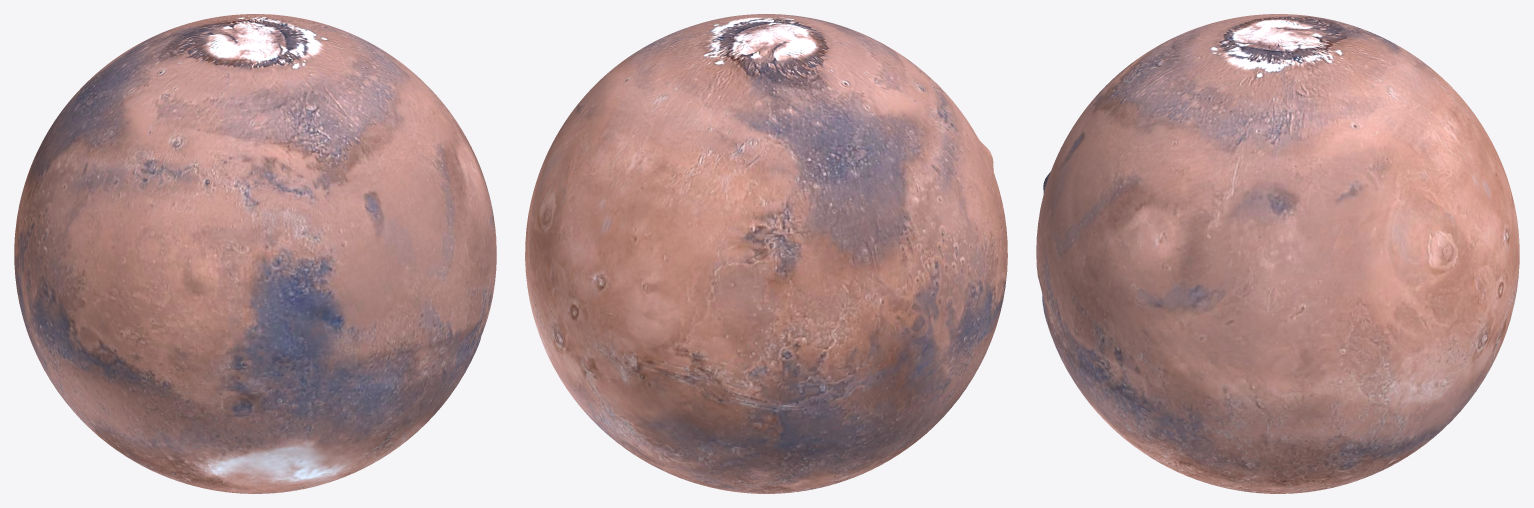
The model's file is normal-mars.glb.
The picture shows the model from 3 angles, left to right: view 1: azimuth 30°, elevation 25°; view 2: azimuth 150°, elevation 25°; view 3: azimuth 270°, elevation 25°; orthographic projection.
Parts seen in each view (by area): view 1: Mars_Globe; view 2: Mars_Globe; view 3: Mars_Globe.
Boxes of the visible parts, x1=… form: Mars_Globe: x1=14, y1=14, x2=496, y2=493; Mars_Globe: x1=525, y1=14, x2=1007, y2=493; Mars_Globe: x1=1036, y1=14, x2=1519, y2=493.
Bounding box in the file's own units: 6.8 × 6.75 × 6.81.
1 material, 1 textured.
